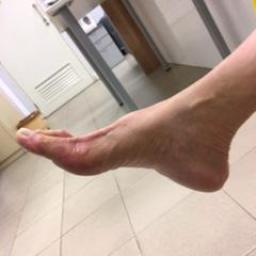Medial View -Right Foot-: (6, 71, 255, 204)
